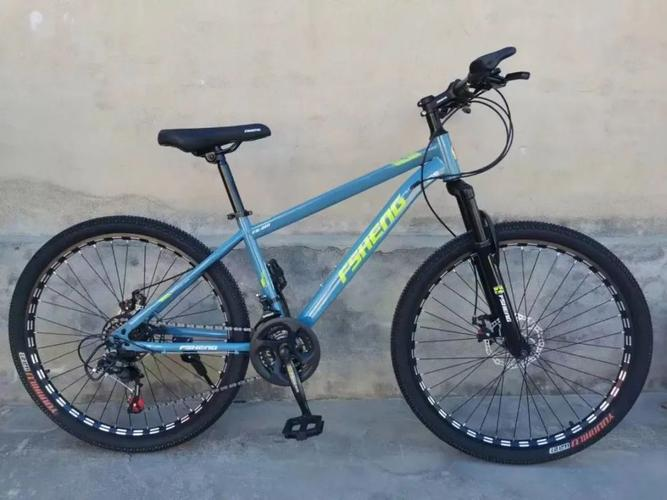单车: (11, 43, 663, 467)
